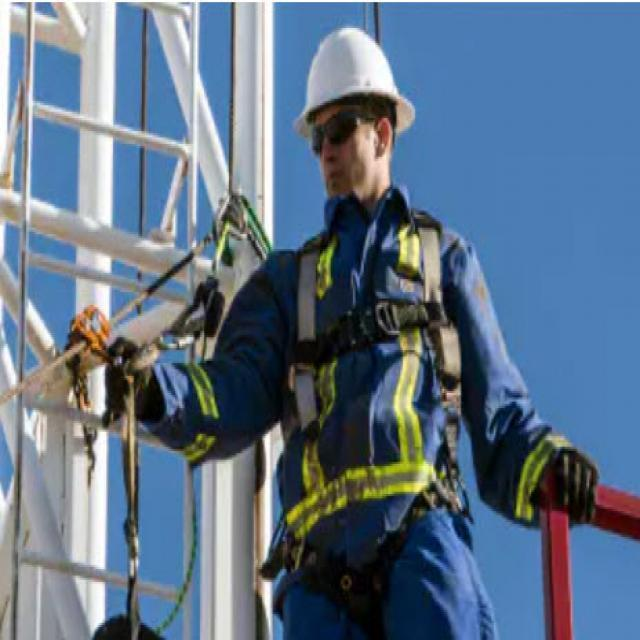No_BreathingApparatus: (306, 111, 375, 199)
